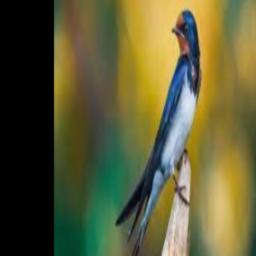Swallow: (115, 10, 200, 256)
